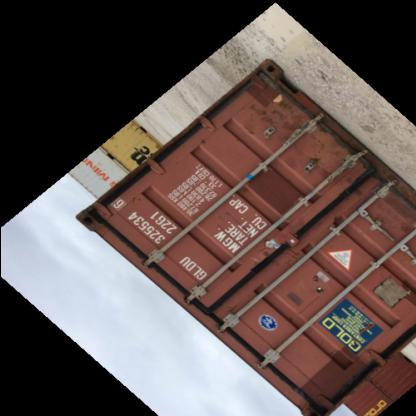Damage: (242, 69, 302, 148), (302, 126, 349, 196), (363, 172, 401, 226), (252, 233, 295, 270), (303, 265, 331, 302), (324, 210, 350, 232)
